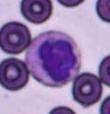M: (24, 31, 82, 88)
